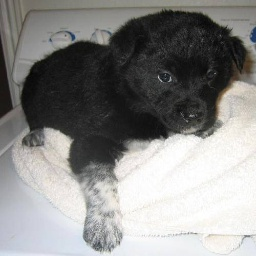dog: (21, 9, 245, 255)
